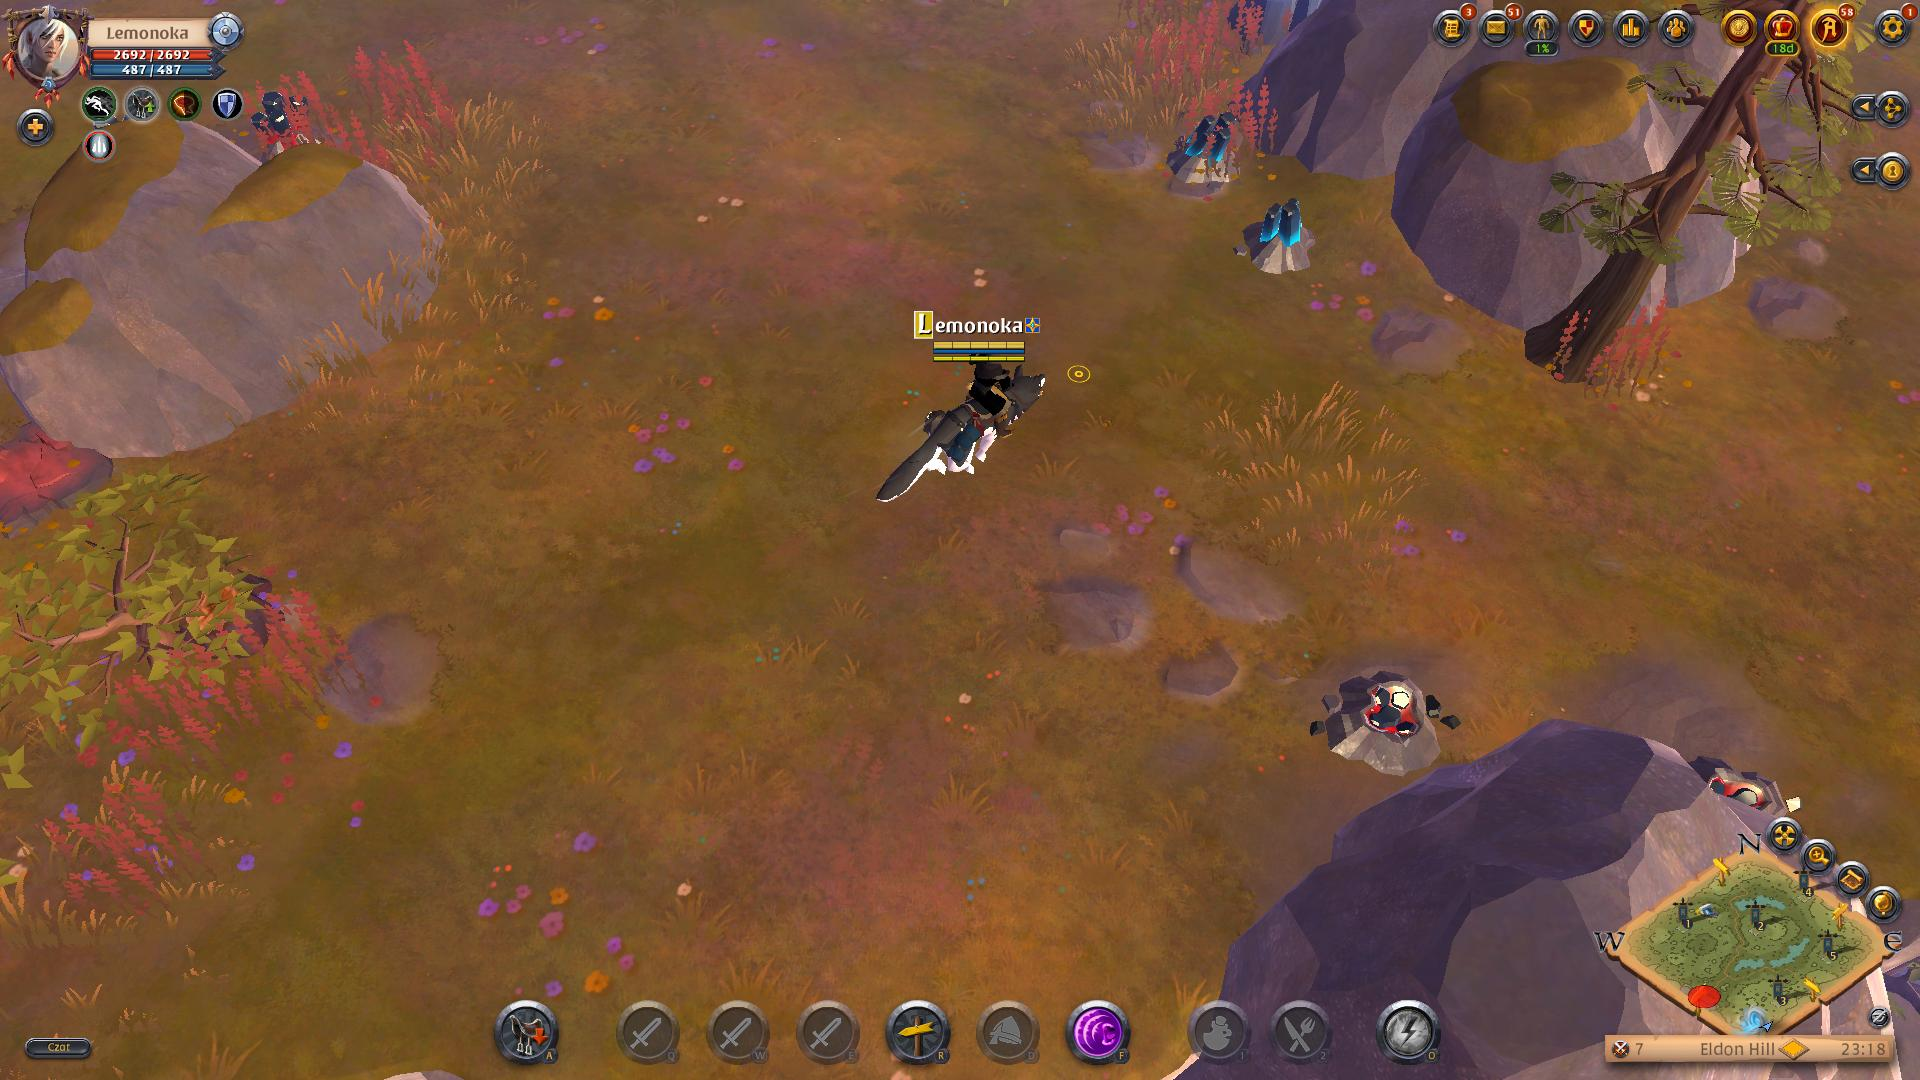ore tier 4: (1236, 196, 1321, 280), (1163, 109, 1244, 196)
